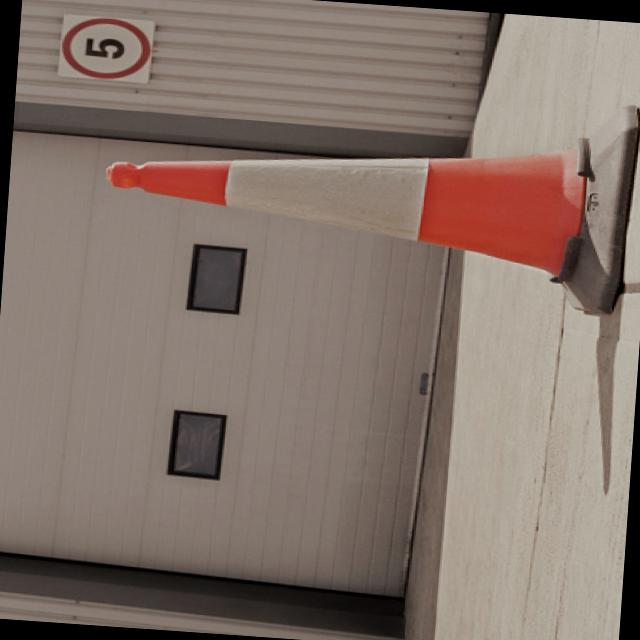cone: (65, 75, 632, 314)
